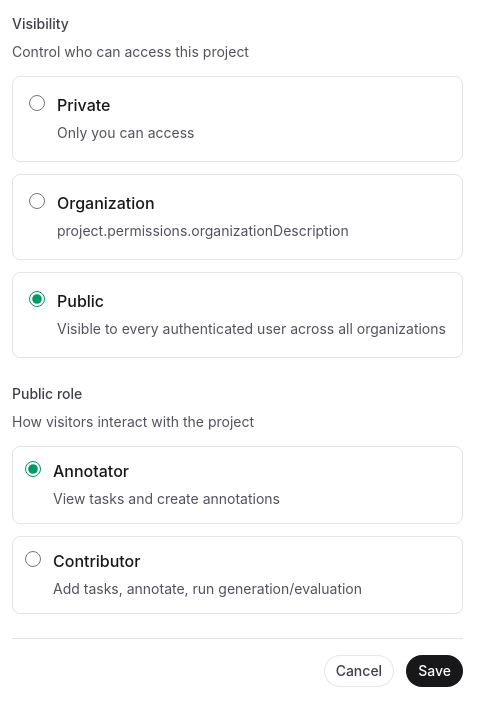
it: ProjectPermissionsPanel › Visibility switching › switching to private hides the role sub-radio
Expected: the element with test id "public-role-section" is shown, [12,382,463,614]
Click the label with test id "private-option". click: {"x": 84, "y": 105}
box: [12,76,463,162]
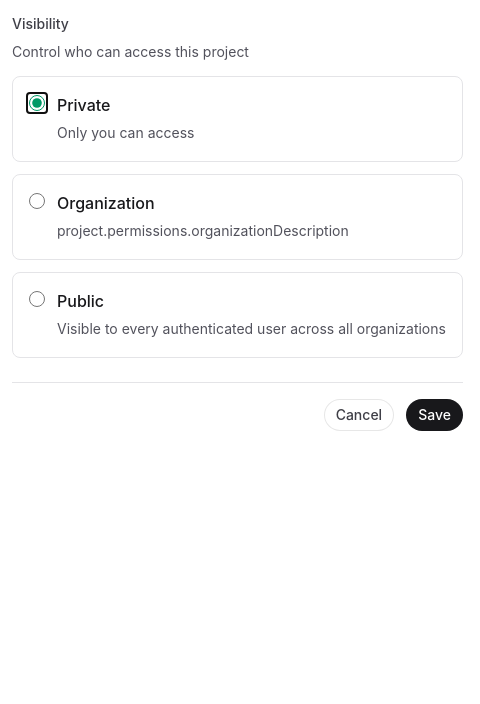
Expected: the element with test id "public-role-section" is gone
